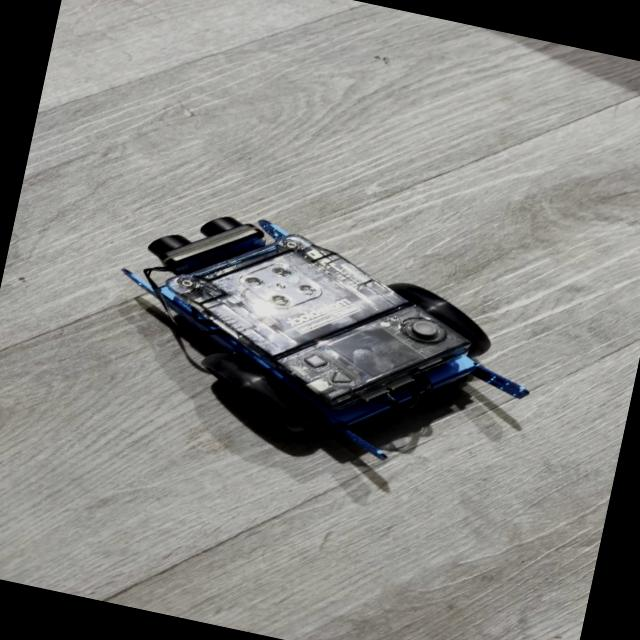mbot-detection: (85, 184, 566, 494)
